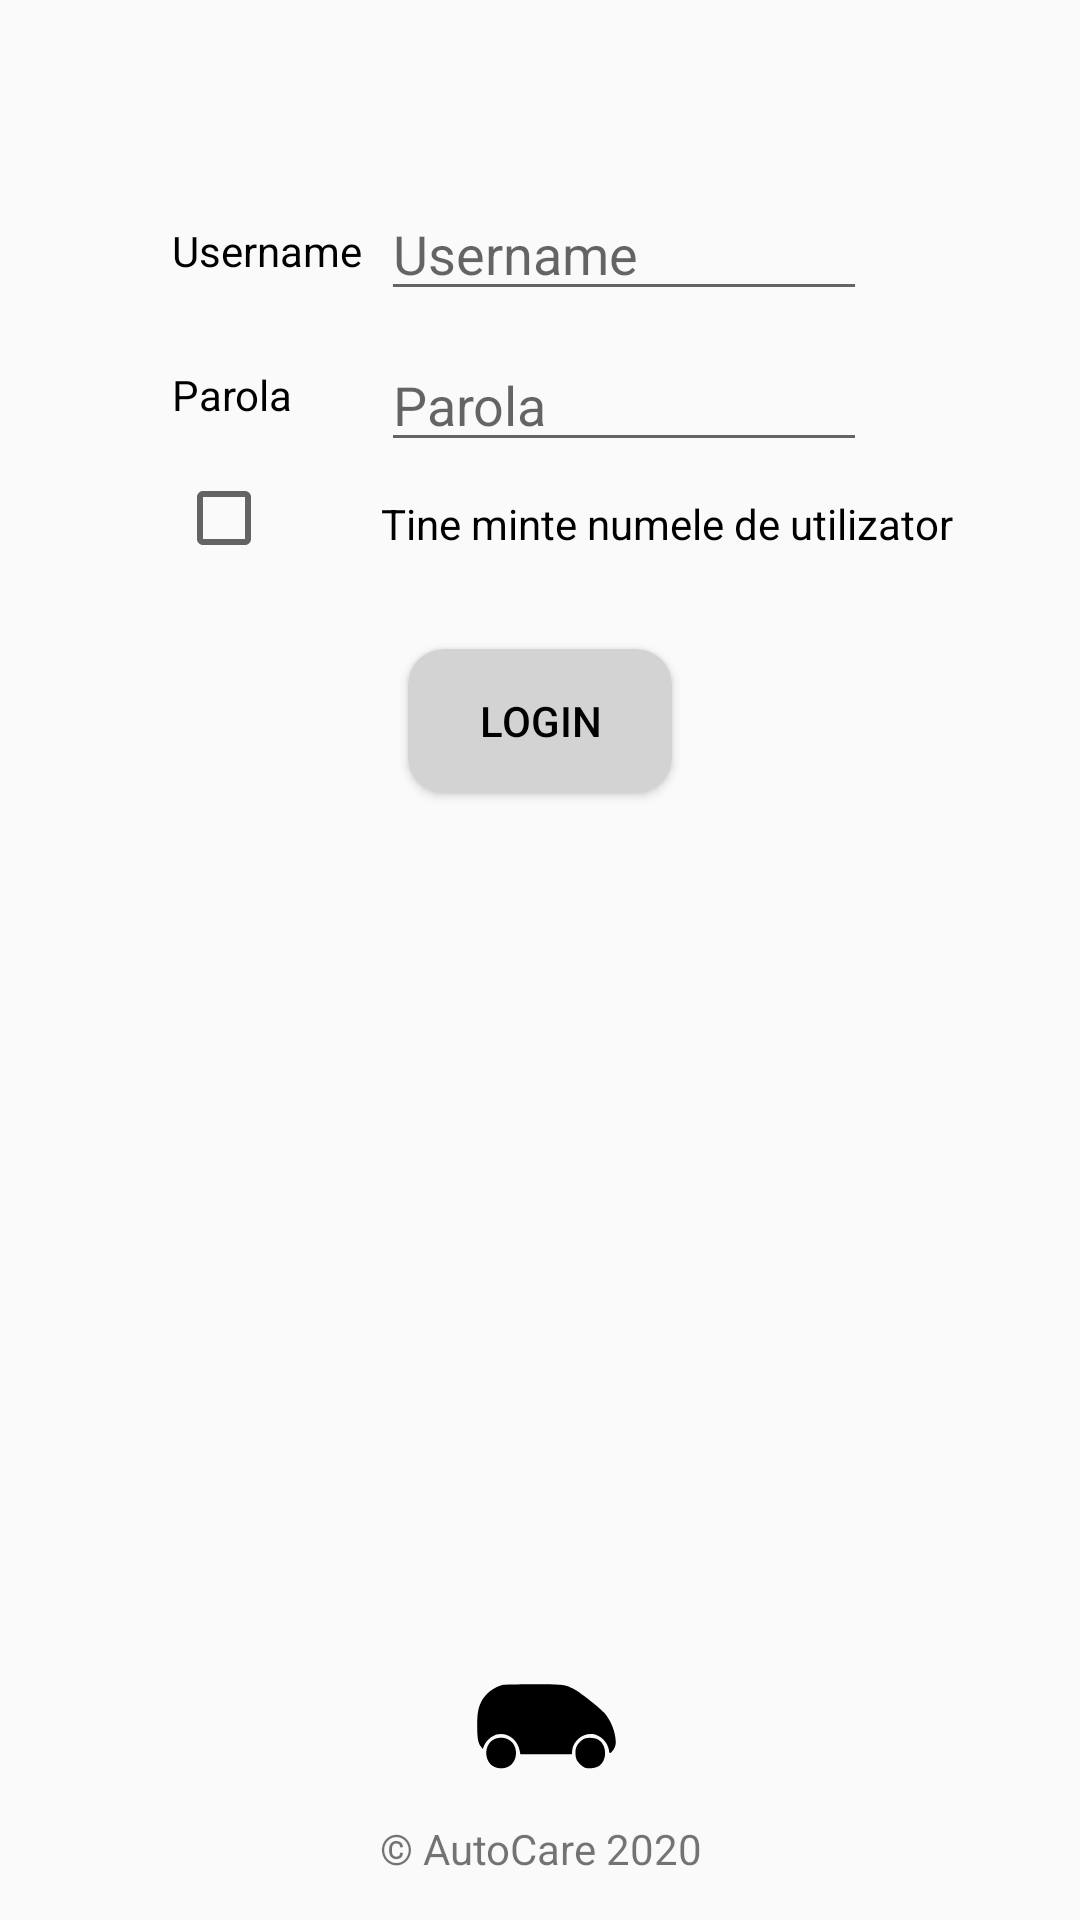

Screen size 1080 x 1920. Icon name, then its box in pixels as (x1, y1, x2, y2):
car: (477, 1684, 616, 1769)
